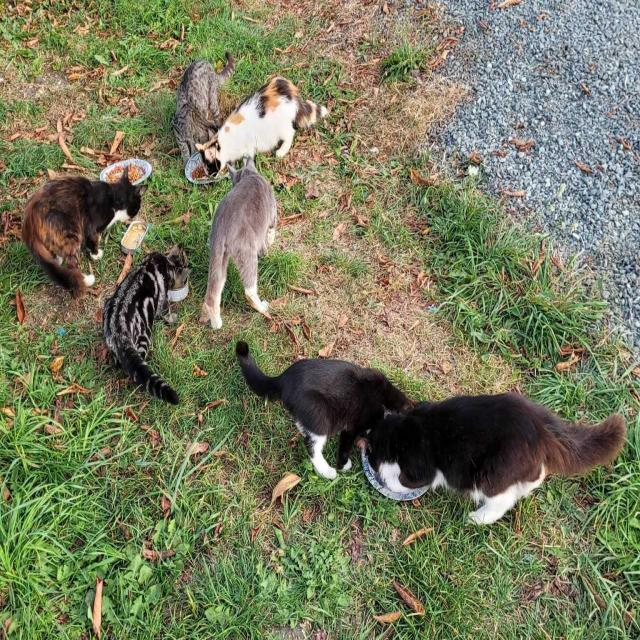cat: (238, 341, 625, 525), (368, 393, 625, 525), (22, 171, 145, 296), (102, 245, 189, 404), (200, 157, 278, 329), (196, 77, 328, 171), (172, 53, 235, 162)
